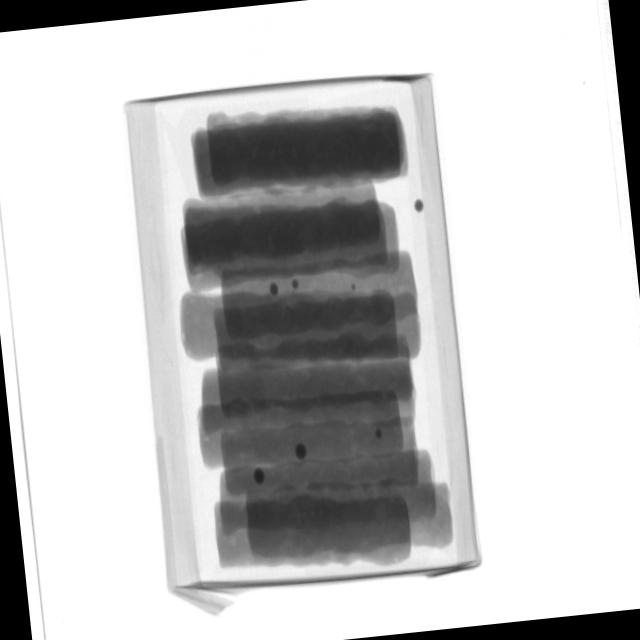ym: (295, 444, 309, 461), (254, 467, 267, 485), (415, 199, 425, 214), (271, 283, 281, 297), (292, 280, 300, 290), (376, 428, 383, 437), (351, 284, 357, 290)
